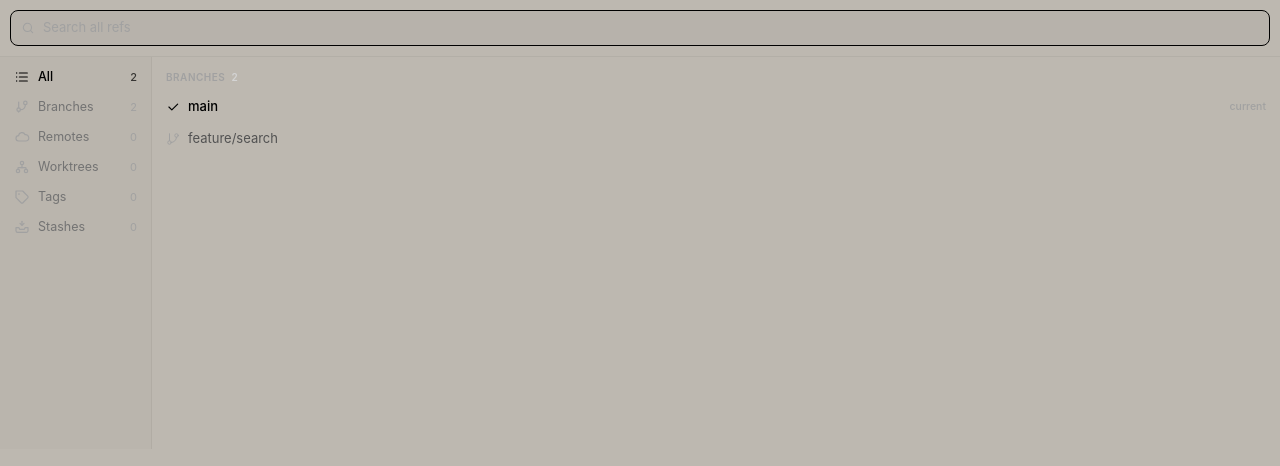
Test: BranchNavigator › names an empty category without doubling its plural
Click the button "Tags 0" at (76, 197), box [6,183,145,211]
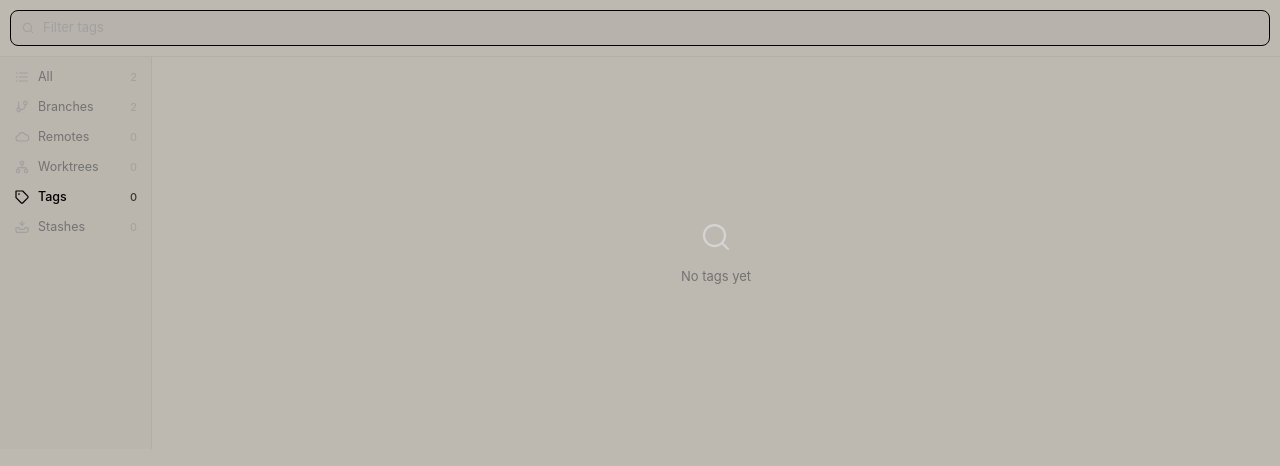
Expected: the text "No tags yet" is shown, [681,267,751,287]
